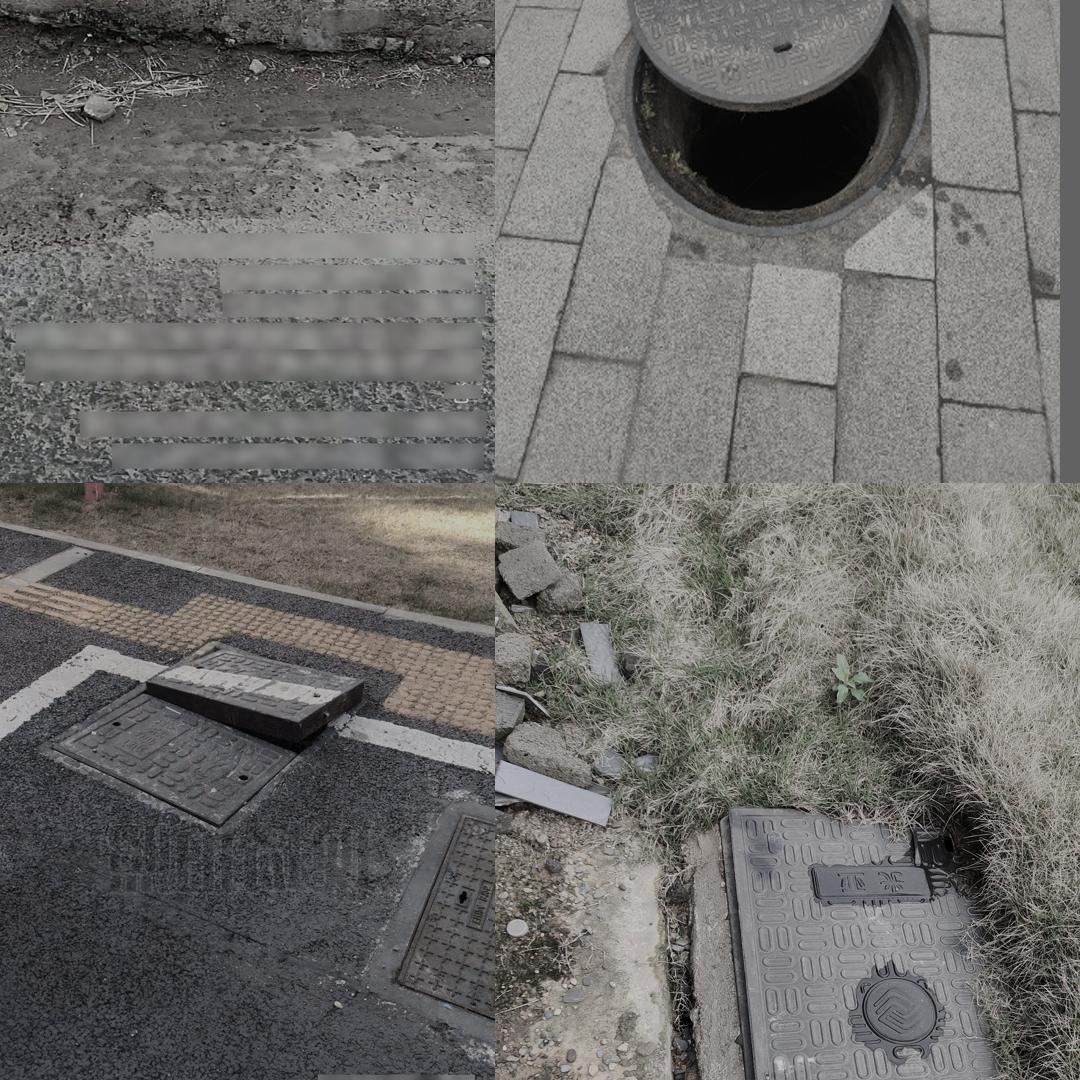uncovered: (720, 807, 1080, 1080), (620, 0, 931, 244), (38, 642, 370, 834)
